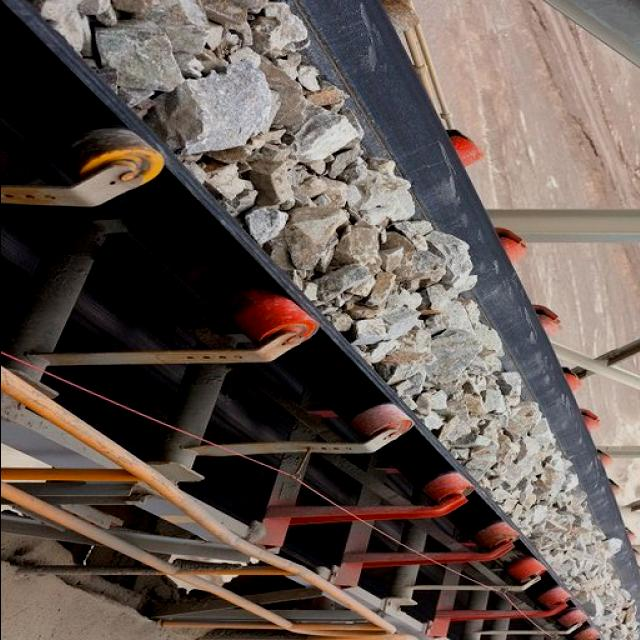conveyor: (2, 0, 640, 640)
